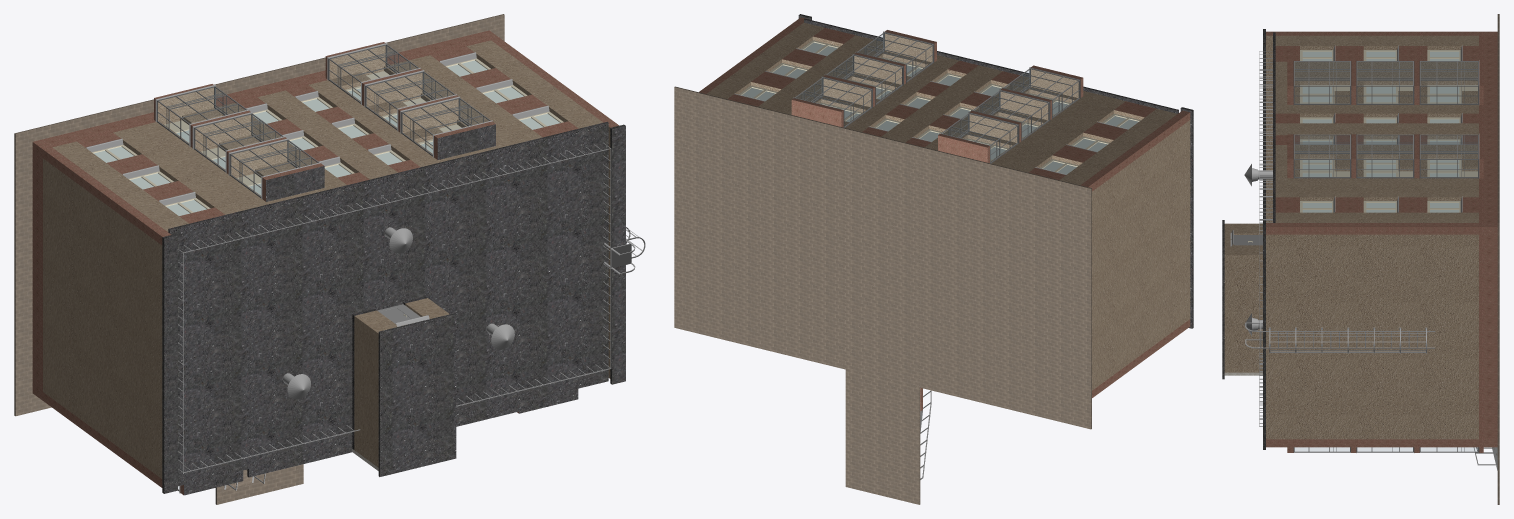
The model's file is Residential Apartment_House Building N170125.obj.
The picture shows the model from 3 angles, left to right: view 1: azimuth 30°, elevation 25°; view 2: azimuth 150°, elevation 25°; view 3: azimuth 270°, elevation 25°; orthographic projection. The views are drawn at different scales.
Visible parts, largest first — view 1: Object006, Object005, Object007, Object0061, balcony, handrail_roof, windowsill, window_21, canopy, Object002, vent, window_31 (+3 smaller); view 2: Object0061, Object005, Object007, balcony, Object006, window_21, Object002, canopy, window_2, window_31, balcony_window_2, balcony_window_21; view 3: Object005, Object007, balcony, Object002, balcony_window_2, balcony_window_21, Object006, stairs, handrail_roof, Object0061, window_21, window_2 (+5 smaller).
Boxes of the visible parts, x1,y1,x2,y2 form: Object006: [162, 122, 625, 495]; Object005: [43, 40, 610, 478]; Object007: [32, 30, 618, 495]; Object0061: [14, 14, 504, 504]; balcony: [157, 44, 490, 491]; handrail_roof: [178, 142, 611, 473]; windowsill: [86, 52, 549, 326]; window_21: [93, 60, 559, 215]; canopy: [155, 43, 492, 493]; Object002: [178, 46, 488, 488]; vent: [282, 227, 514, 399]; window_31: [252, 99, 401, 177]; Object0061: [674, 86, 1091, 504]; Object005: [706, 22, 1190, 390]; Object007: [699, 17, 1190, 411]; balcony: [795, 32, 1079, 163]; Object006: [798, 14, 1193, 328]; window_21: [742, 42, 1138, 174]; Object002: [797, 34, 1029, 137]; canopy: [793, 31, 1080, 163]; window_2: [739, 40, 1140, 172]; window_31: [876, 75, 1001, 141]; balcony_window_2: [820, 57, 1070, 161]; balcony_window_21: [844, 65, 1068, 159]; Object005: [1224, 35, 1478, 439]; Object007: [1266, 31, 1497, 452]; balcony: [1294, 61, 1478, 452]; Object002: [1295, 62, 1477, 450]; balcony_window_2: [1300, 85, 1477, 176]; balcony_window_21: [1302, 87, 1459, 176]; Object006: [1222, 29, 1275, 449]; stairs: [1245, 322, 1435, 353]; handrail_roof: [1259, 51, 1272, 426]; Object0061: [1497, 14, 1499, 504]; window_21: [1302, 51, 1459, 212]; window_2: [1300, 50, 1460, 212].
Bounding box in the file's own units: 0.0229 × 0.0188 × 0.0125.
Materials: 10 (5 with a texture image).
